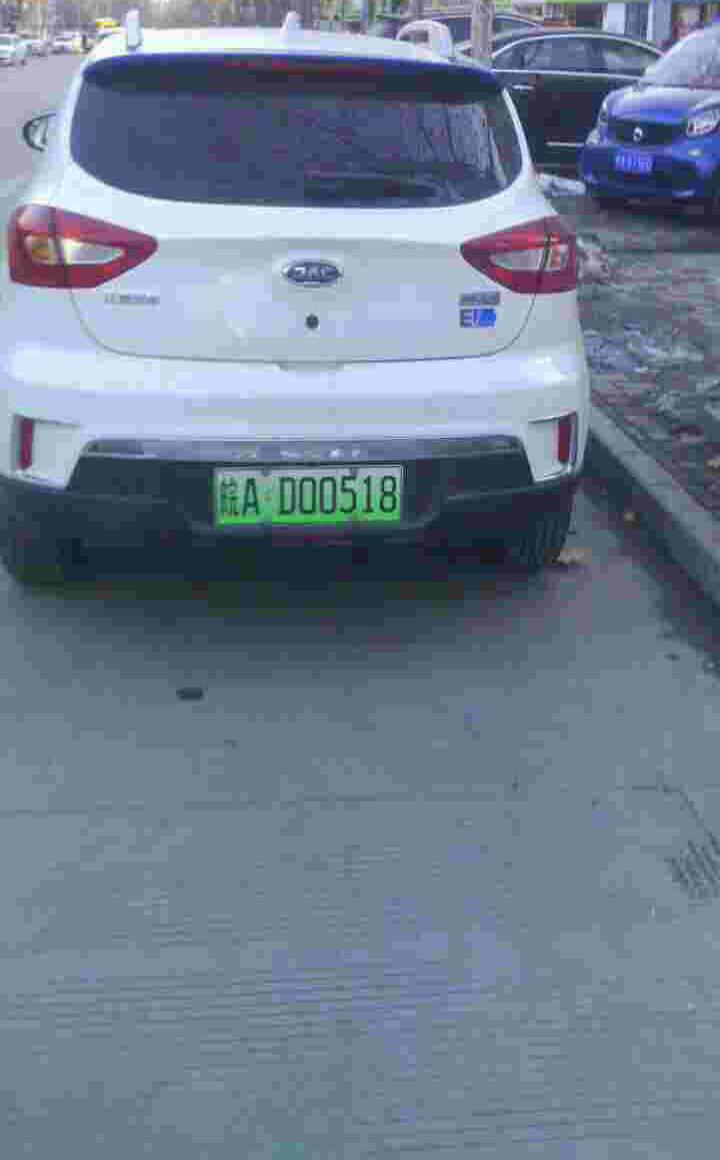car: (215, 452, 415, 534)
